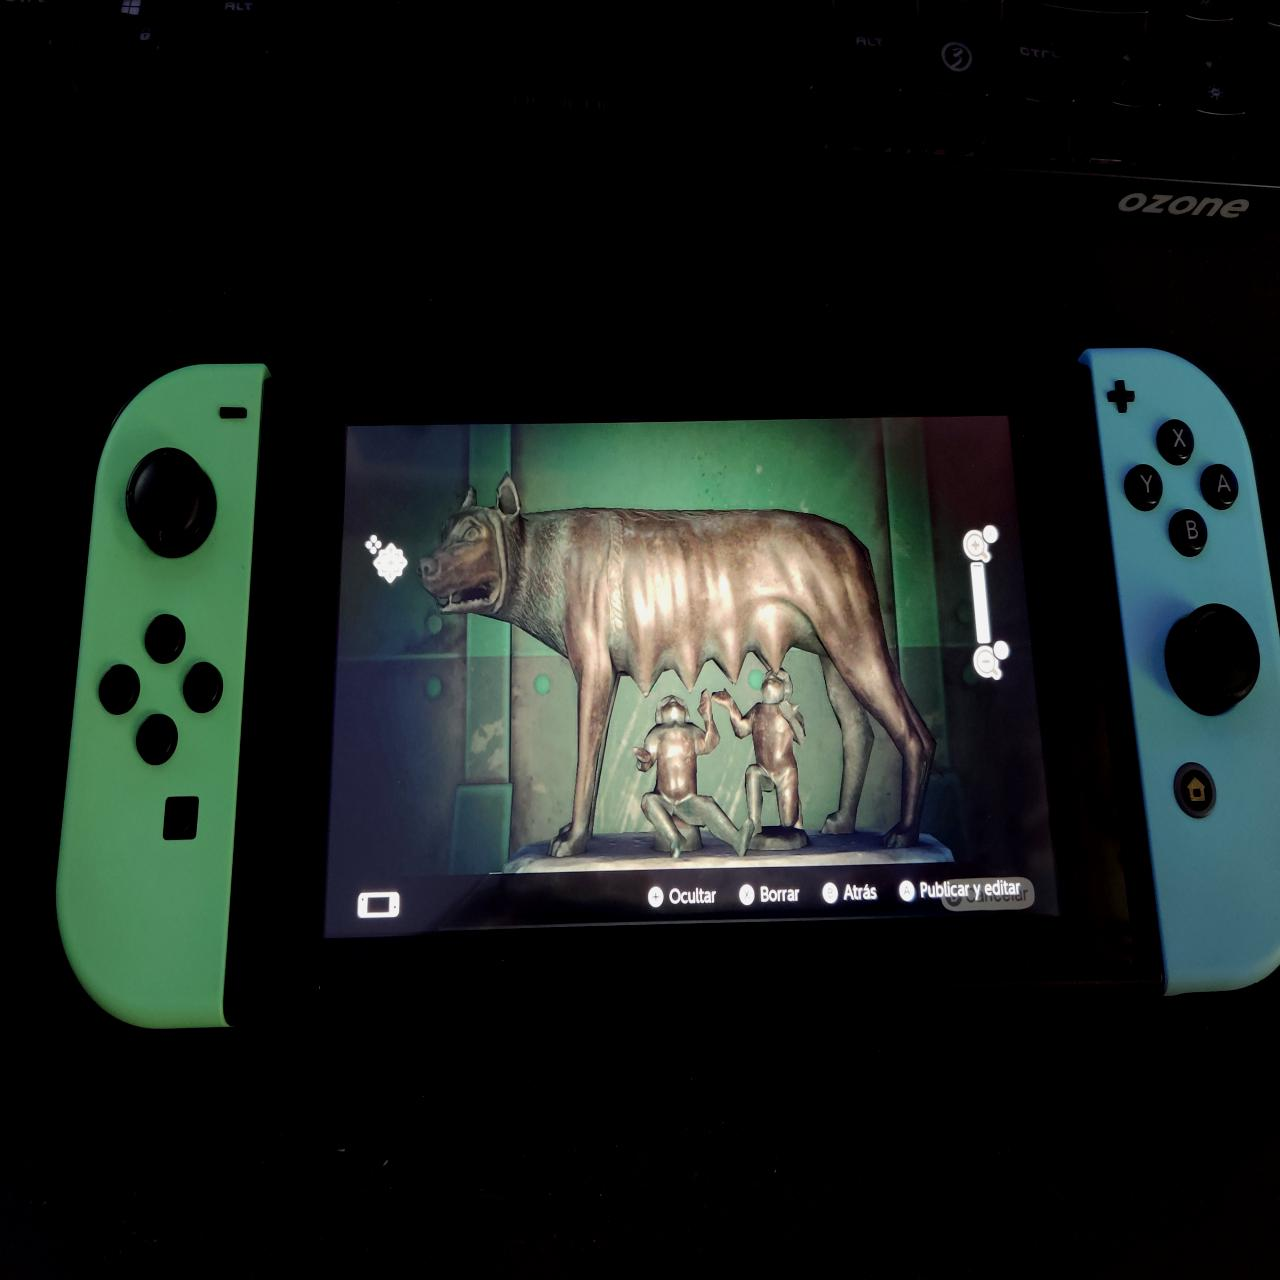Capitolini: (415, 459, 955, 867)
